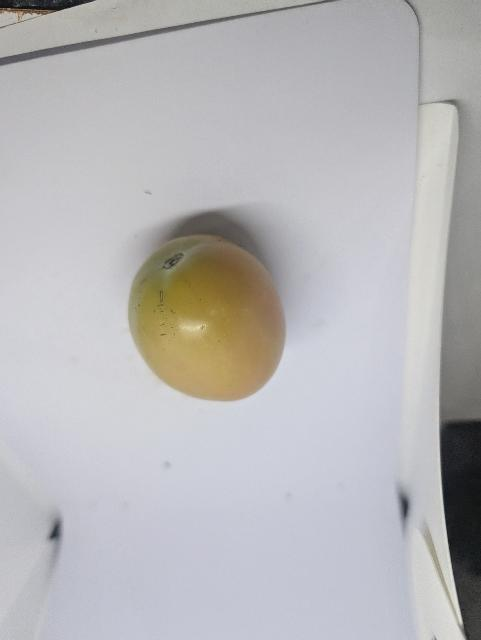breaker: (123, 231, 294, 405)
